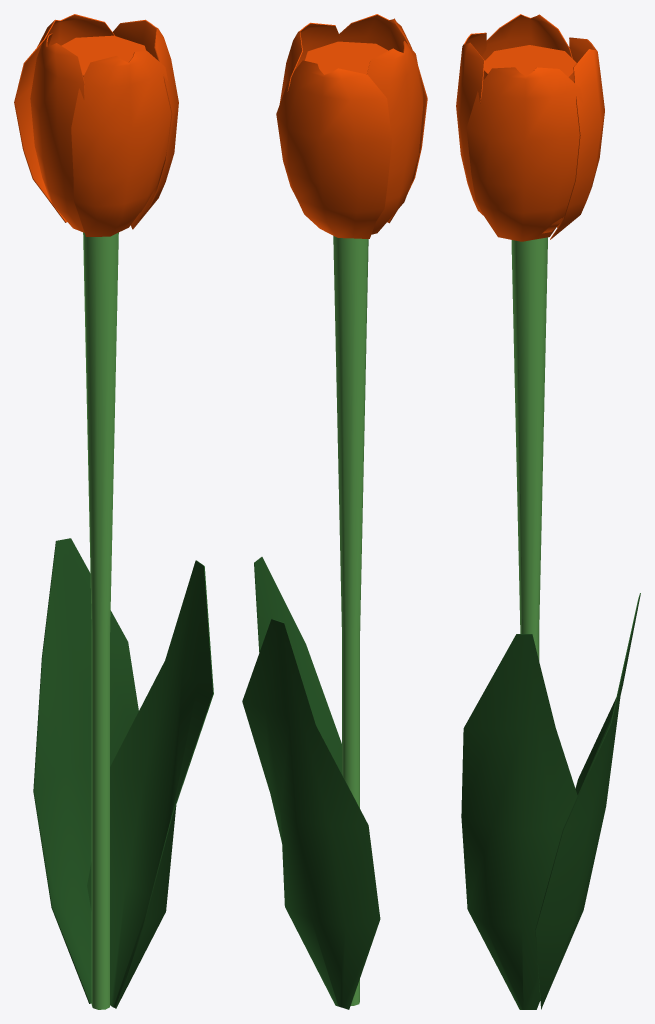
Rendered from Tulipán.fbx.
3 views of the same model, side by side, from view 1: azimuth 30°, elevation 25°; view 2: azimuth 150°, elevation 25°; view 3: azimuth 270°, elevation 25° (orthographic).
Parts seen in each view (by area): view 1: Tulipán; view 2: Tulipán; view 3: Tulipán.
Part boxes in pixels (x1,y1,x2,y2): Tulipán: [14, 14, 213, 1009]; Tulipán: [242, 14, 427, 1009]; Tulipán: [456, 14, 640, 1009].
Size of the model in its own units: 204 by 1184 by 205.
